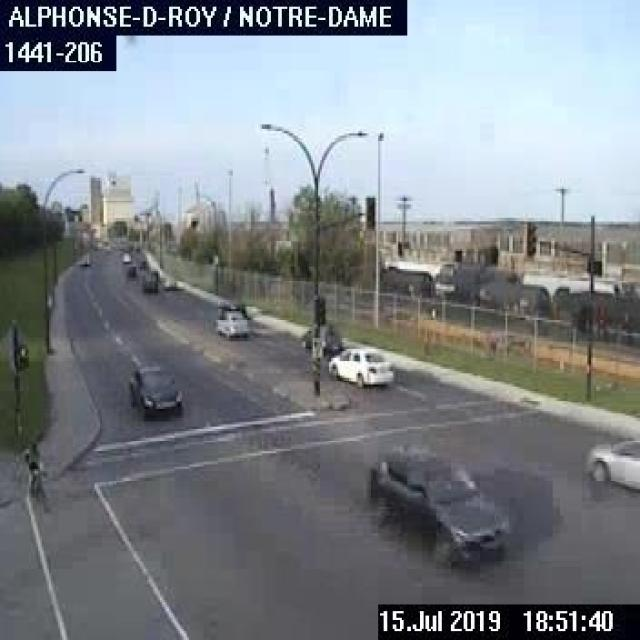pedestrian: (22, 442, 47, 498)
vehicle: (364, 438, 511, 560), (124, 354, 184, 416), (584, 433, 638, 489), (328, 348, 392, 391), (300, 325, 343, 351), (215, 310, 247, 336), (138, 264, 158, 294), (217, 297, 245, 316), (73, 251, 91, 267), (123, 259, 136, 278)
